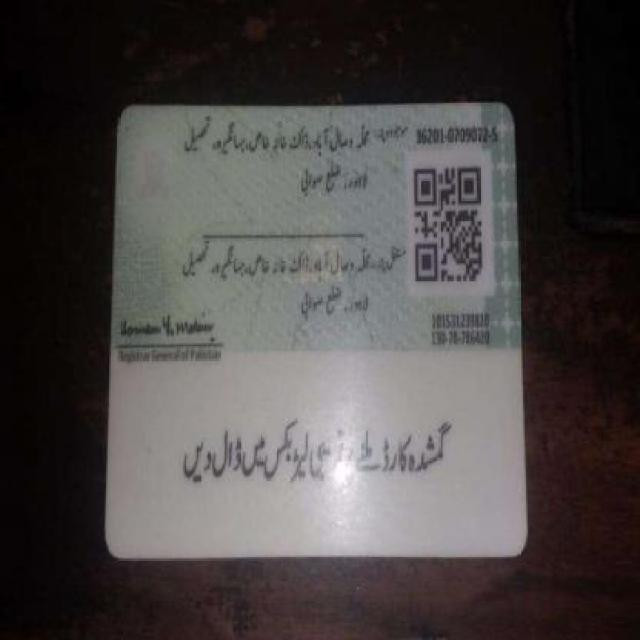Back: (105, 98, 529, 560)
